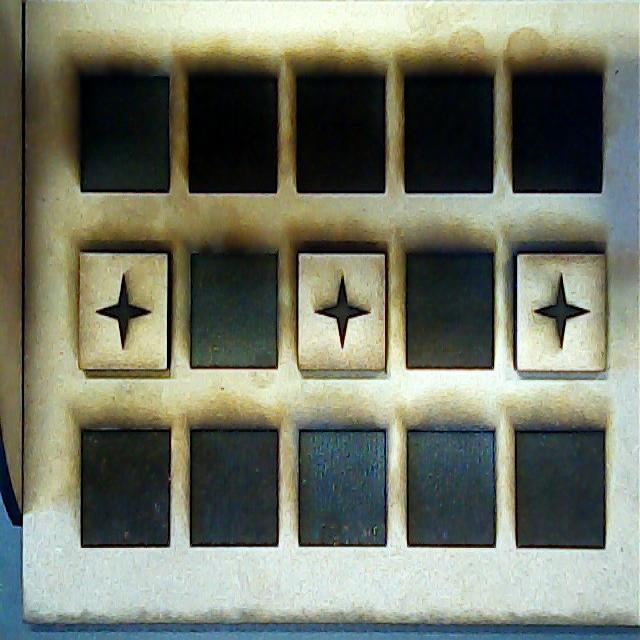star: (516, 248, 609, 374), (296, 250, 390, 374), (79, 245, 170, 372)
